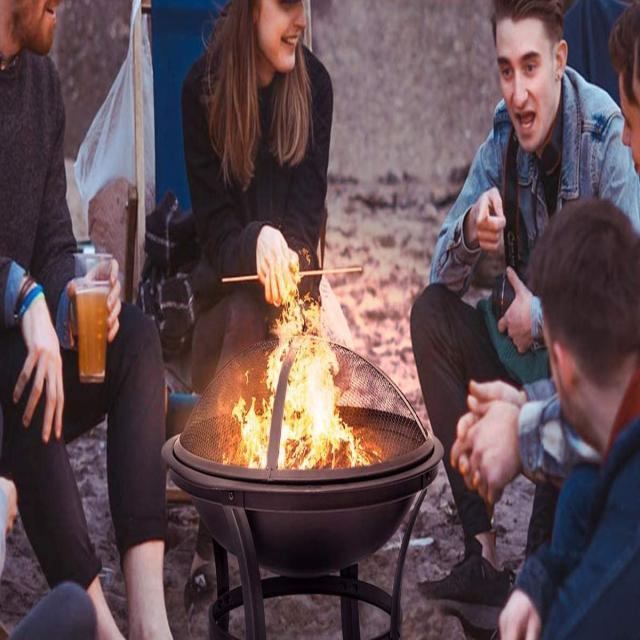Fire: (220, 302, 373, 484)
